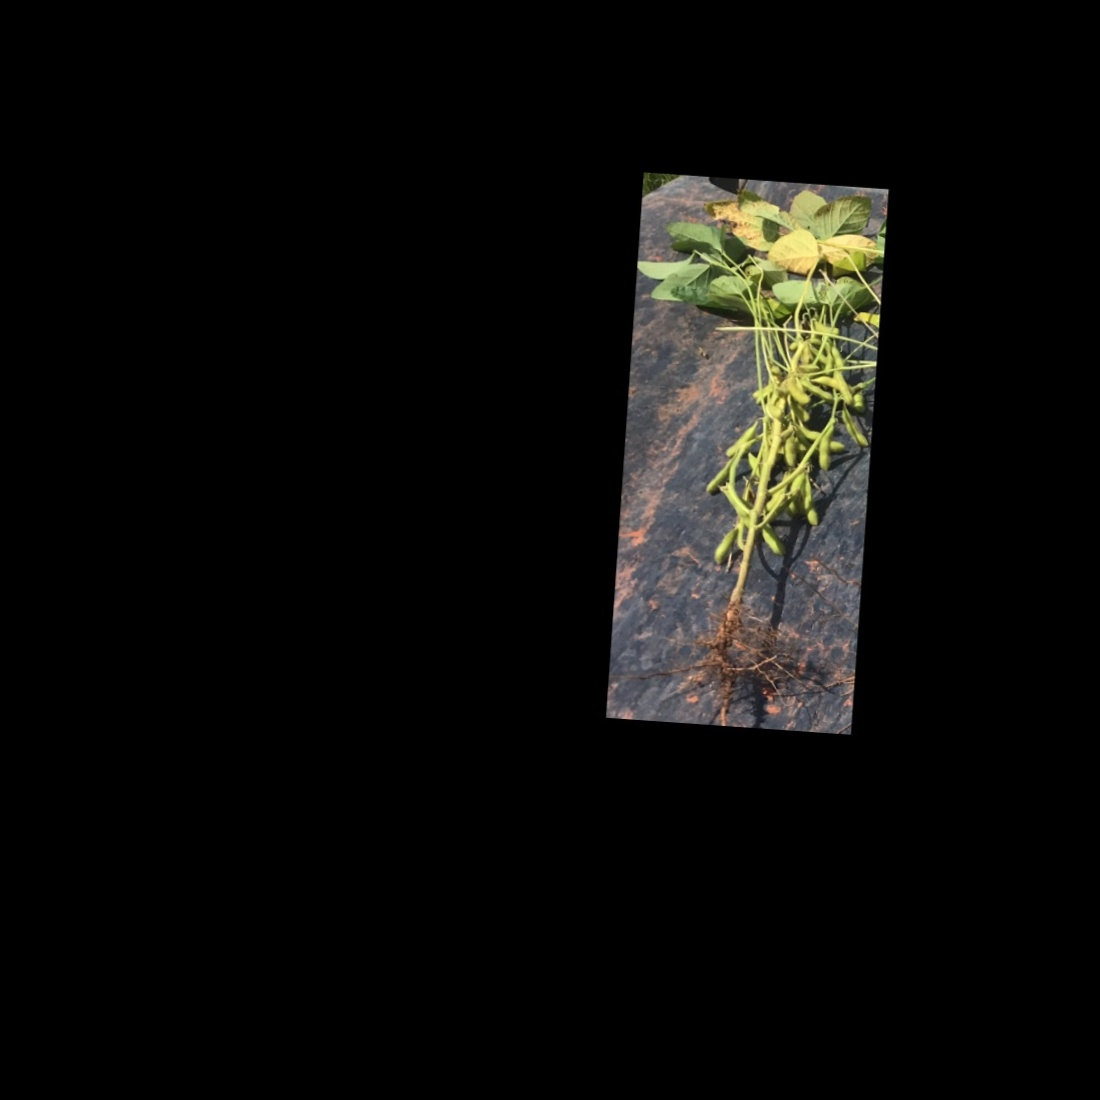pod: (833, 406, 873, 450), (711, 521, 741, 570), (723, 419, 757, 460), (702, 455, 733, 497), (815, 425, 840, 474), (835, 367, 859, 406)
soy: (616, 178, 887, 715)
